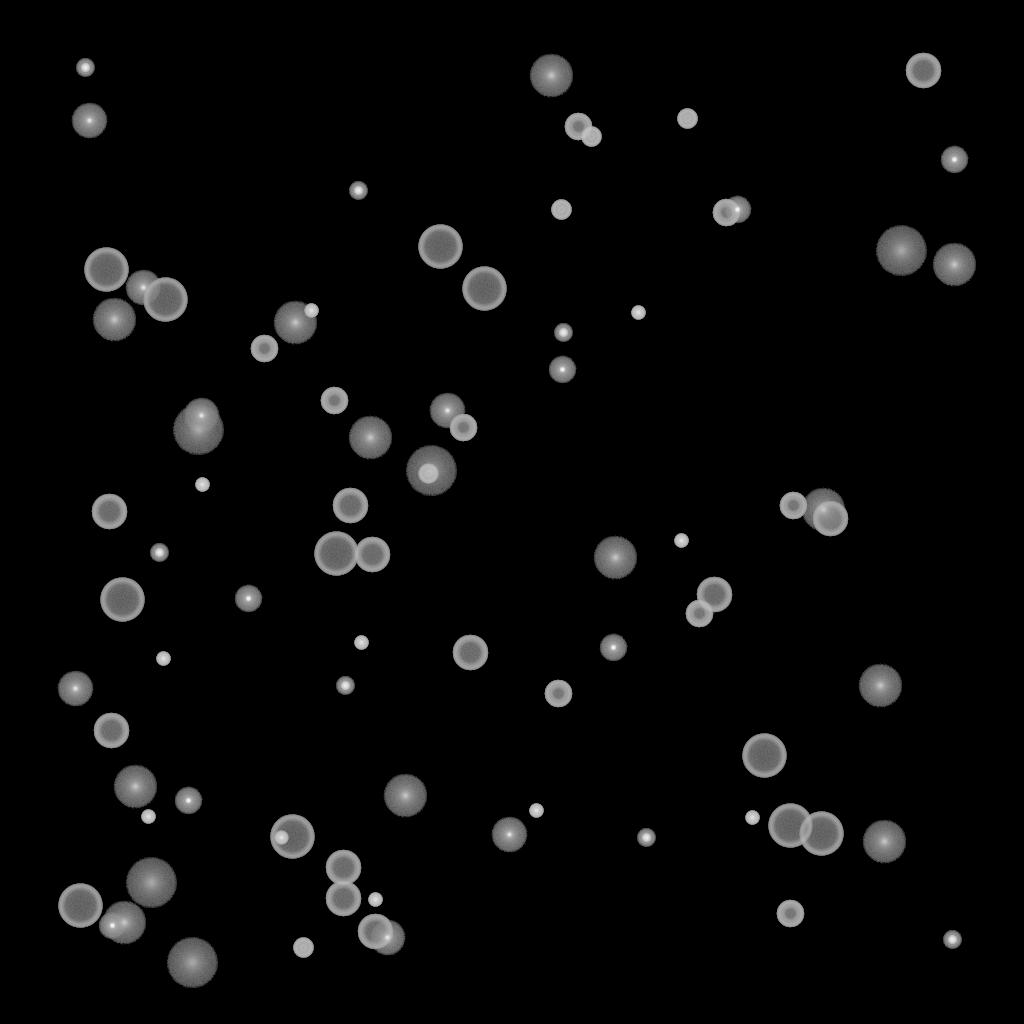depth:-10: (723, 196, 751, 224), (940, 146, 968, 174), (548, 356, 576, 384), (234, 585, 262, 613), (599, 634, 627, 662), (98, 912, 126, 940), (174, 787, 202, 815)
depth:-20: (336, 677, 354, 695), (76, 59, 94, 77), (554, 324, 572, 342), (637, 829, 655, 847), (150, 544, 168, 562), (943, 931, 961, 949), (349, 182, 367, 200)
depth:-30: (141, 810, 155, 824), (529, 804, 543, 818), (304, 304, 318, 318), (156, 652, 170, 666), (354, 636, 368, 650), (674, 534, 688, 548), (195, 478, 209, 492), (745, 811, 759, 825), (274, 831, 288, 845), (631, 306, 645, 320), (368, 893, 382, 907)
depth:-40: (293, 938, 313, 958), (677, 109, 697, 129), (581, 127, 601, 147), (418, 464, 438, 484), (551, 200, 571, 220)
depth:-50: (564, 113, 592, 141), (449, 414, 477, 442), (544, 680, 572, 708), (320, 387, 348, 415), (250, 335, 278, 363), (776, 900, 804, 928), (685, 600, 713, 628), (712, 199, 740, 227), (779, 492, 807, 520)
depth:-60: (91, 494, 127, 530), (332, 488, 368, 524), (357, 914, 393, 950), (812, 501, 848, 537), (354, 537, 390, 573), (325, 850, 361, 886), (325, 881, 361, 917), (905, 53, 941, 89), (452, 635, 488, 671), (93, 713, 129, 749), (696, 577, 732, 613)
depth:-70: (84, 248, 128, 292), (799, 812, 843, 856), (462, 267, 506, 311), (742, 734, 786, 778), (418, 225, 462, 269), (314, 532, 358, 576), (270, 815, 314, 859), (143, 278, 187, 322), (100, 578, 144, 622), (58, 884, 102, 928), (768, 804, 812, 848)
depth:0: (491, 817, 527, 853), (429, 393, 465, 429), (57, 671, 93, 707), (183, 398, 219, 434), (125, 270, 161, 306), (71, 103, 107, 139), (369, 920, 405, 956)
depth:10: (801, 488, 845, 532), (593, 536, 637, 580), (92, 298, 136, 342), (348, 416, 392, 460), (862, 820, 906, 864), (102, 901, 146, 945), (273, 301, 317, 345), (932, 243, 976, 287), (113, 765, 157, 809), (383, 774, 427, 818), (529, 54, 573, 98), (858, 664, 902, 708)
depth:20: (875, 226, 927, 276), (405, 446, 457, 496), (125, 858, 177, 908), (172, 405, 224, 455), (166, 938, 218, 988)
